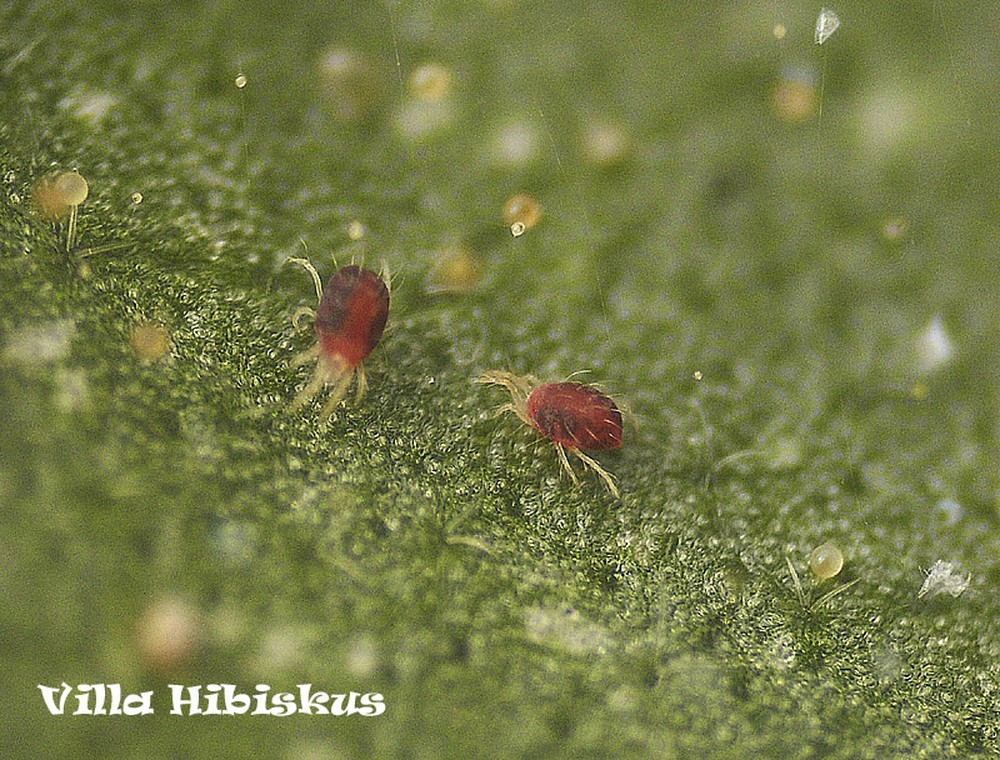Aracnido Rojo: (262, 237, 412, 457), (471, 347, 654, 519)
